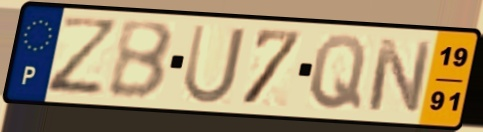7: (242, 27, 304, 108)
B: (105, 20, 176, 102)
N: (364, 35, 435, 116)
Q: (306, 32, 369, 112)
U: (180, 21, 249, 107)
Z: (43, 13, 124, 97)
